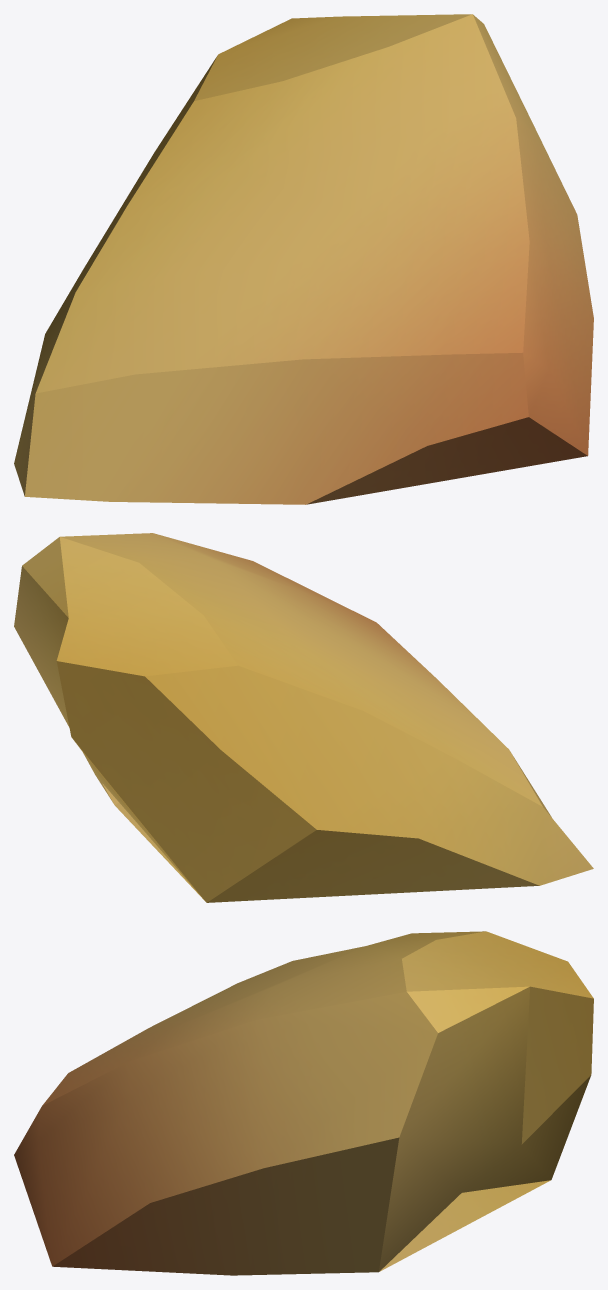
The model's file is Canyon_Stone_016.FBX.
3 views of the same model, one above another, from view 1: azimuth 30°, elevation 25°; view 2: azimuth 150°, elevation 25°; view 3: azimuth 270°, elevation 25° (orthographic). The views are drawn at different scales.
Visible parts, largest first — view 1: Canyon_Stone_016; view 2: Canyon_Stone_016; view 3: Canyon_Stone_016.
Part boxes in pixels (bbox=[...]): Canyon_Stone_016: bbox=[14, 14, 593, 504]; Canyon_Stone_016: bbox=[14, 533, 593, 902]; Canyon_Stone_016: bbox=[14, 931, 593, 1275].
Bounding box in the file's own units: 128 × 63.37 × 109.
1 material, 1 textured.
